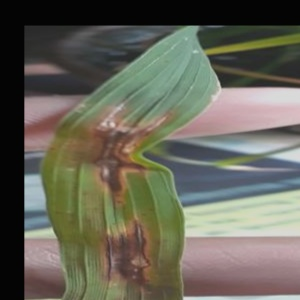Brown_Spot: (88, 210, 157, 288), (90, 103, 138, 157), (84, 150, 130, 200)
